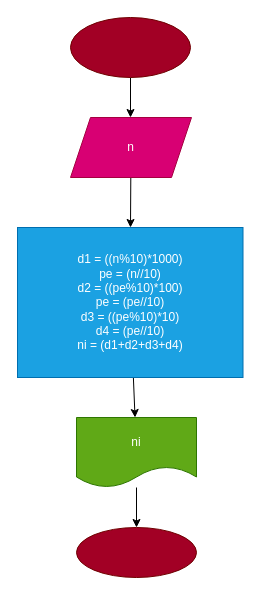
This 261x595 diagram has some shape labels left out. Here are the shapes that lost their labels. From the top down, the centre of each, then its label:
(x=130, y=47): INICIO
(x=136, y=552): FIN
